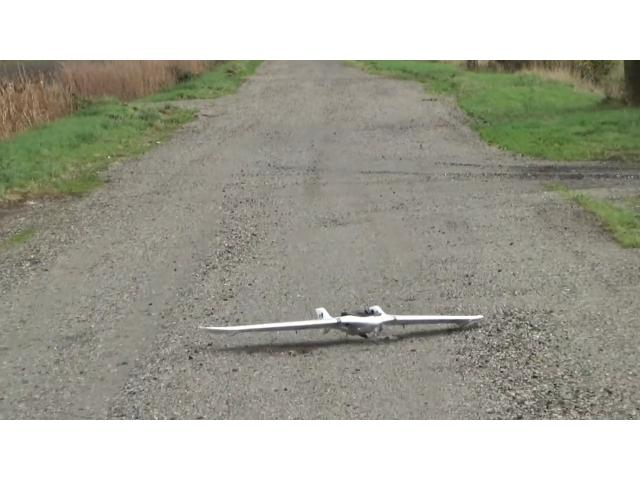Anti-Drone: (198, 302, 486, 342)
